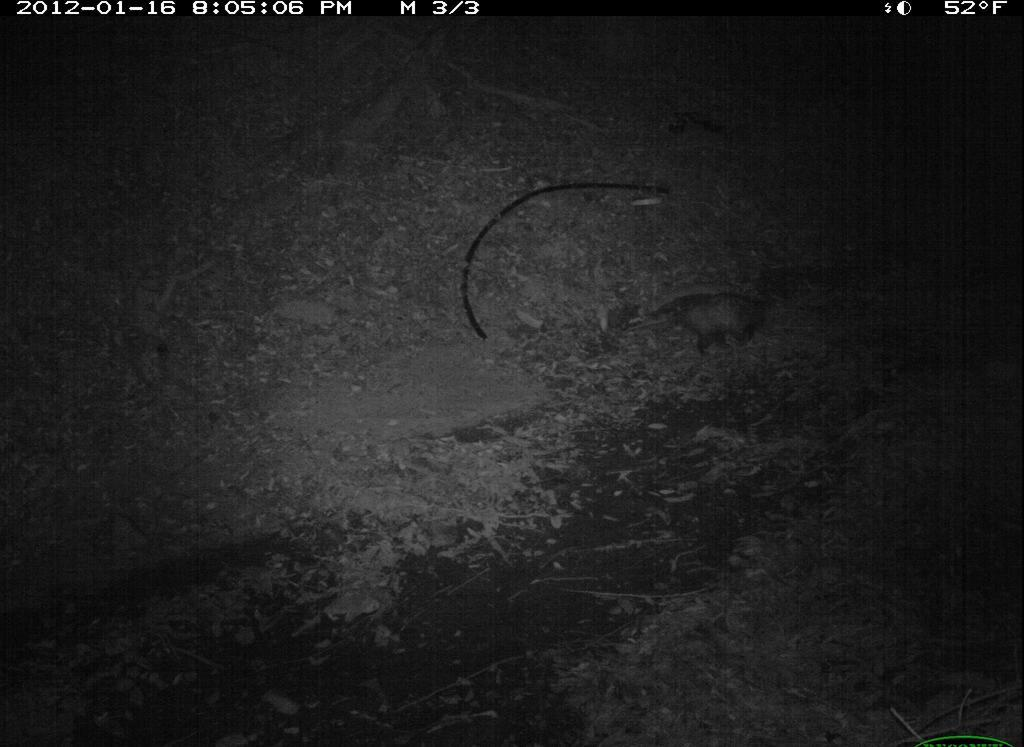opossum: (455, 172, 680, 351), (655, 289, 774, 365)
